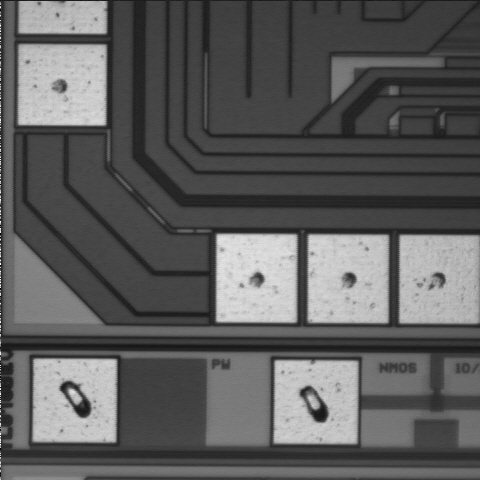pad: (217, 234, 297, 322), (308, 235, 388, 323), (19, 45, 106, 125), (33, 359, 116, 442), (274, 361, 357, 443), (400, 236, 478, 323)
